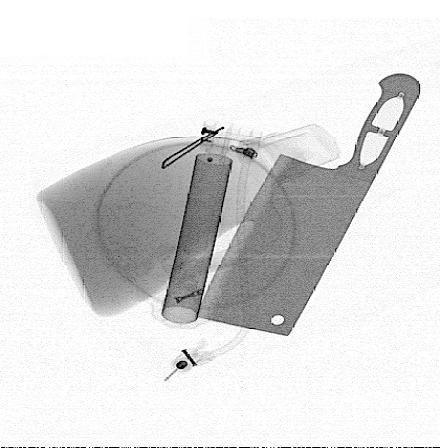Knife: (192, 71, 424, 337)
